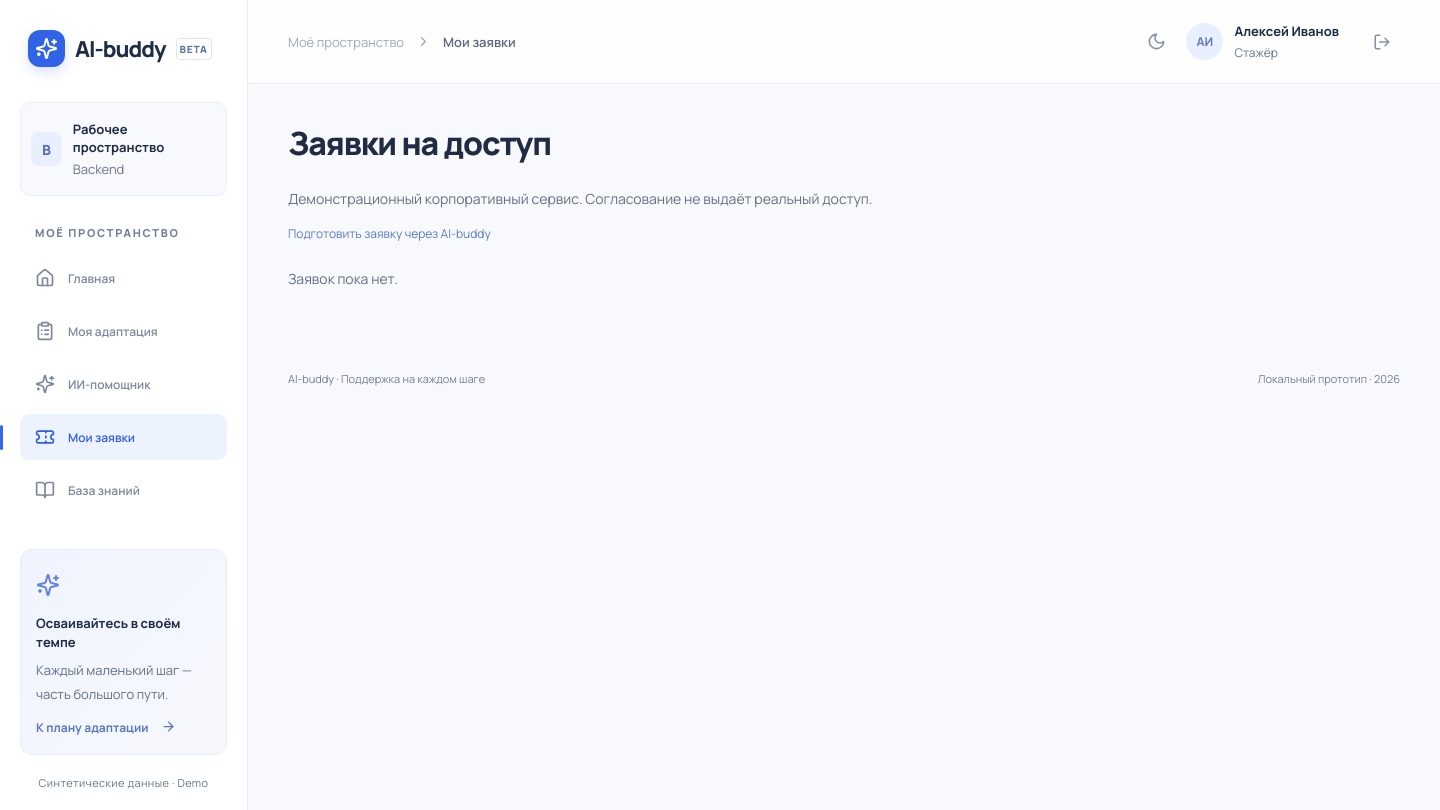
Test case: placeholder /requests
The image size is (1440, 810).
Expected: the heading "Заявки на доступ" is shown, [288, 121, 551, 165]
Click the link "Главная".
click(75, 278)  # box [35, 268, 115, 288]
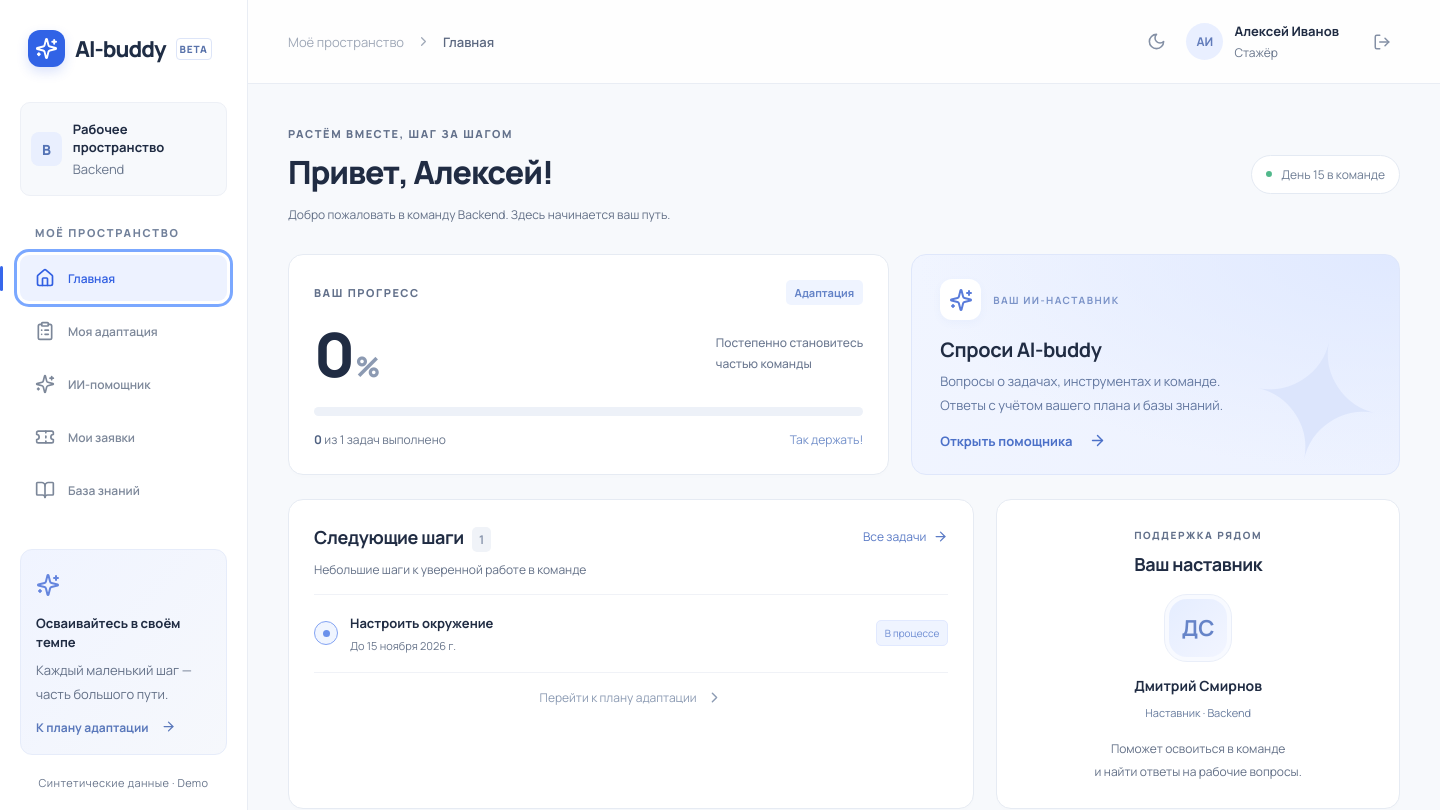
Result: the heading "Привет, Алексей!" is shown at [288, 150, 553, 194]
